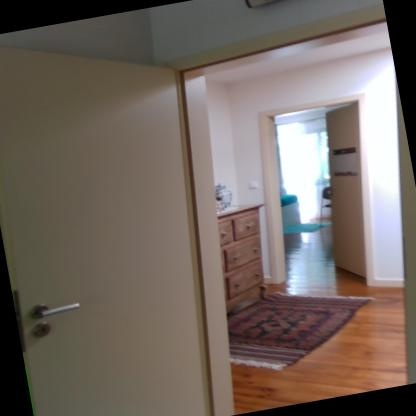open: (235, 86, 406, 307)
